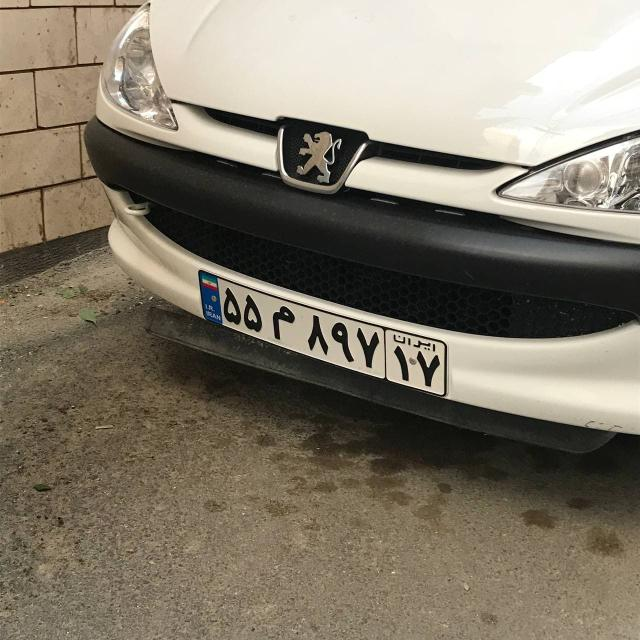Plates: (183, 270, 461, 399)
